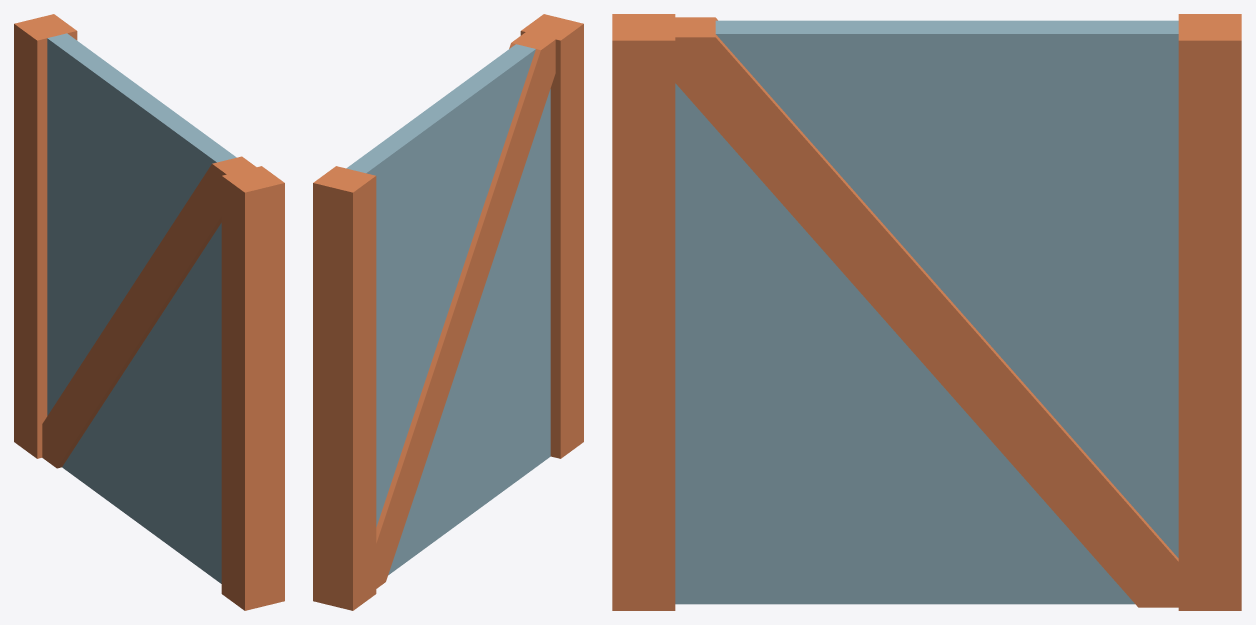
Rendered from wallDetailDiagonal.obj.
3 views of the same model, side by side, from view 1: azimuth 30°, elevation 25°; view 2: azimuth 150°, elevation 25°; view 3: azimuth 270°, elevation 25° (orthographic). The views are drawn at different scales.
Parts seen in each view (by area): view 1: wallDetailDiagonal; view 2: wallDetailDiagonal; view 3: wallDetailDiagonal.
Boxes of the visible parts, left/top/right/bottom form: wallDetailDiagonal: left=14, top=14, right=284, bottom=610; wallDetailDiagonal: left=313, top=14, right=583, bottom=610; wallDetailDiagonal: left=612, top=14, right=1241, bottom=610.
Size of the model in its own units: 0.1 by 1 by 1.
